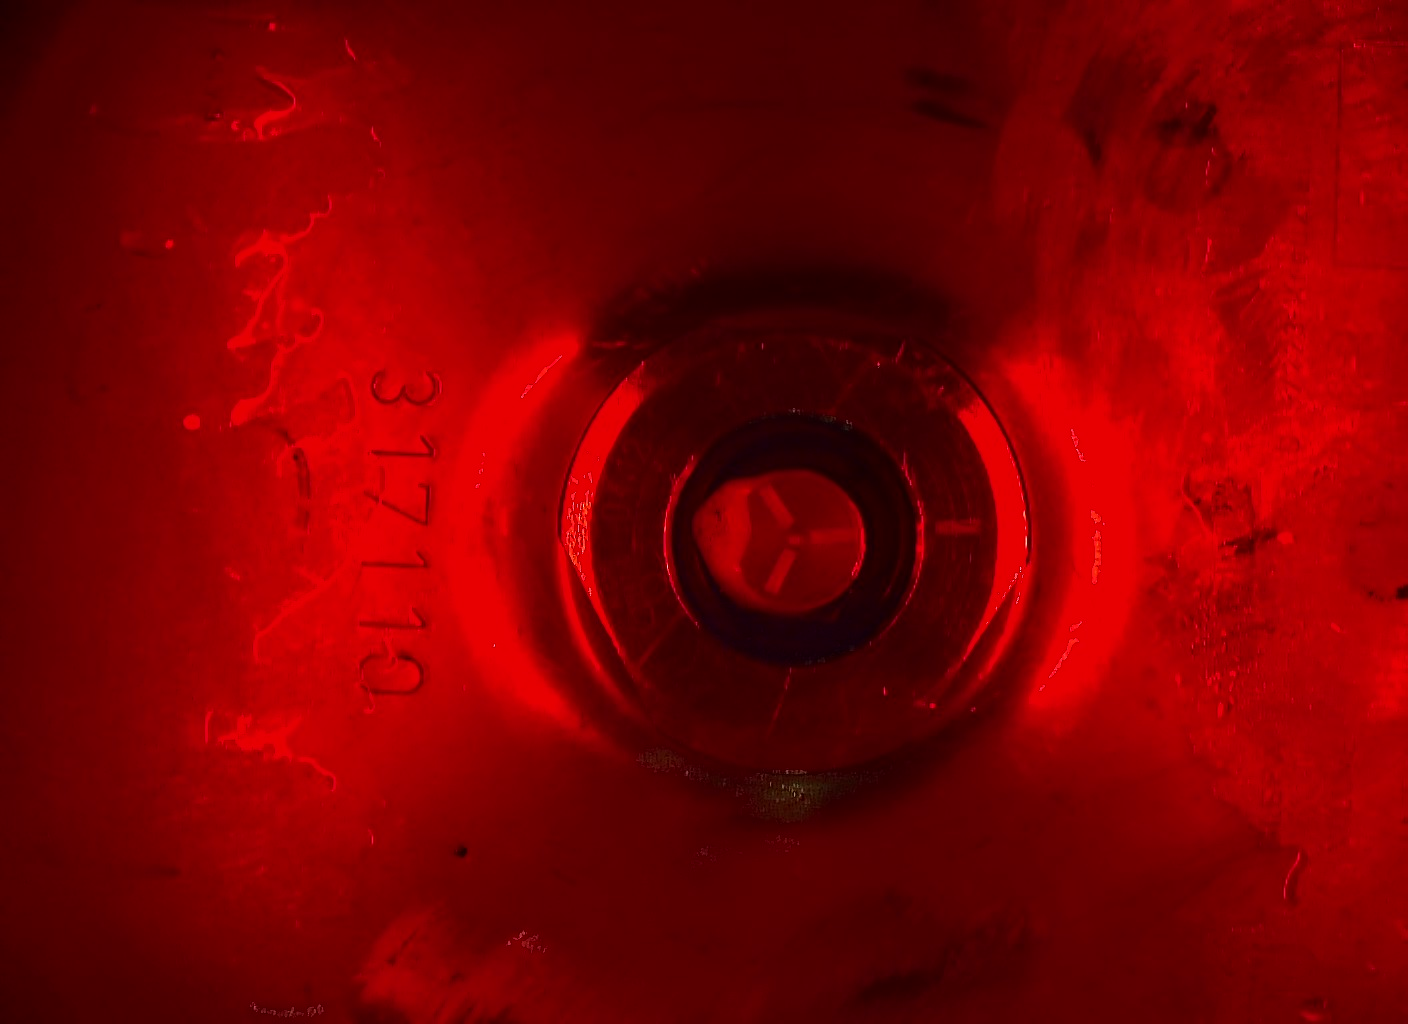pena: (674, 464, 764, 616)
